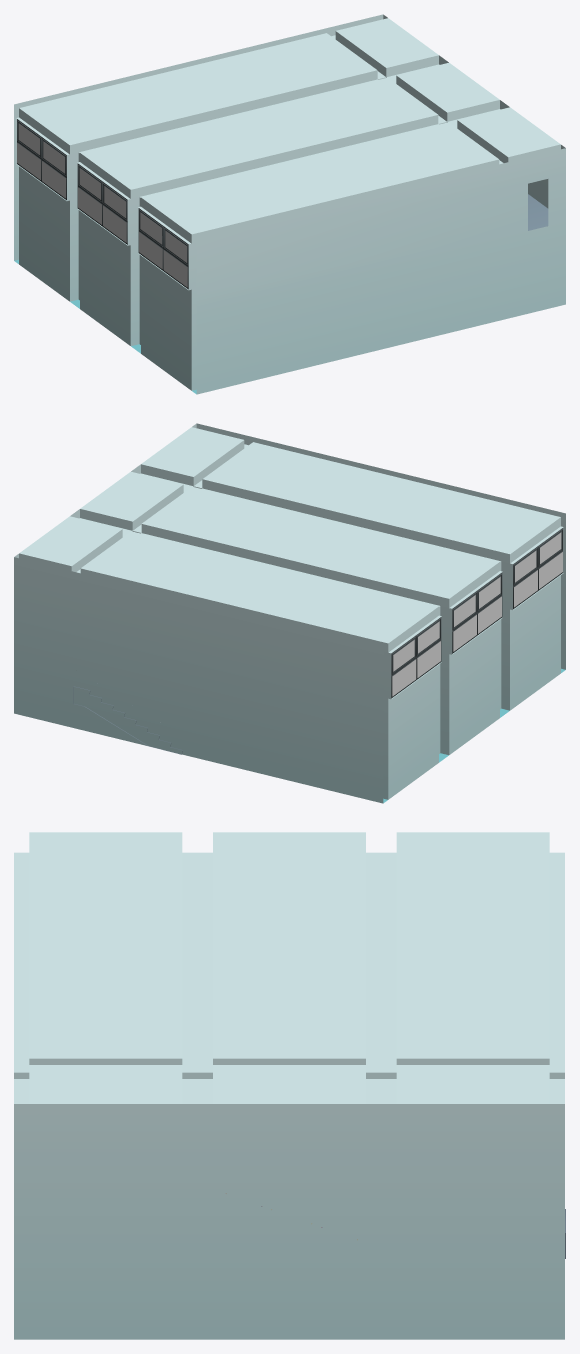
File: LabKleinEmissive.fbx
3 views of the same model, one above another, from view 1: azimuth 30°, elevation 25°; view 2: azimuth 150°, elevation 25°; view 3: azimuth 270°, elevation 25° (orthographic). The views are drawn at different scales.
Parts seen in each view (by area): view 1: Lab_Room; view 2: Lab_Room; view 3: Lab_Room.
Part boxes in pixels (bbox=[...]): Lab_Room: bbox=[14, 14, 565, 394]; Lab_Room: bbox=[14, 423, 565, 803]; Lab_Room: bbox=[14, 832, 565, 1339].
Bounding box in the file's own units: 21.17 × 8.5 × 18.03.
3 materials, 1 textured.
